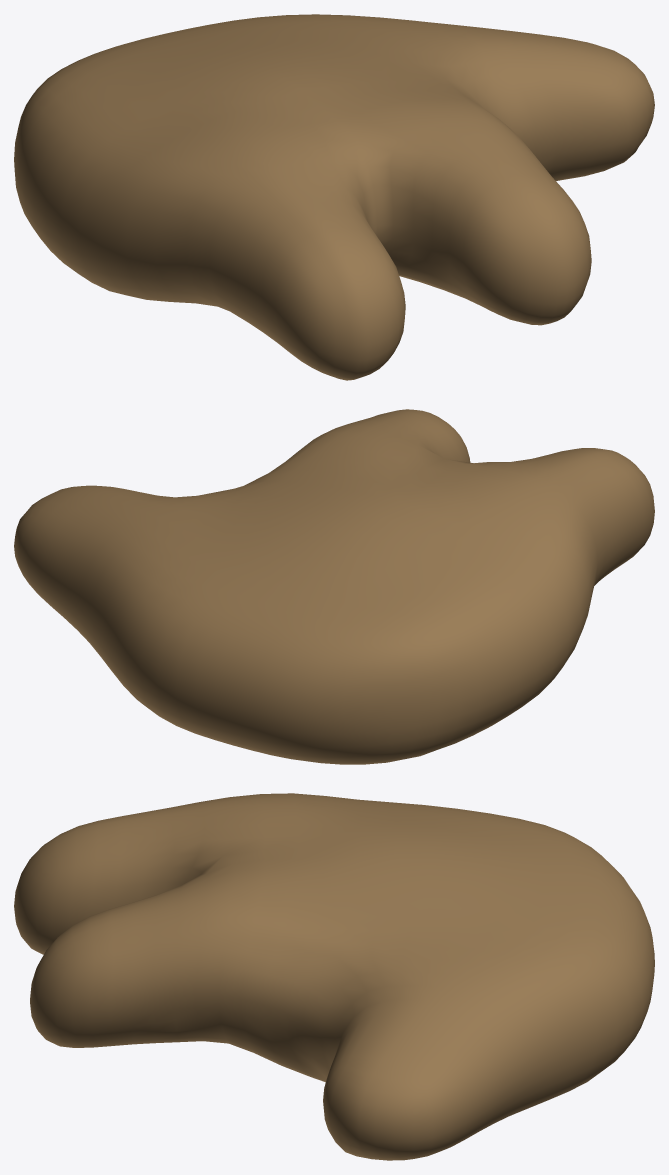
The model's file is right-hand.fbx.
The picture shows the model from 3 angles, top to bottom: view 1: azimuth 30°, elevation 25°; view 2: azimuth 150°, elevation 25°; view 3: azimuth 270°, elevation 25°; orthographic projection. The views are drawn at different scales.
Parts seen in each view (by area): view 1: Right Hand; view 2: Right Hand; view 3: Right Hand.
Boxes of the visible parts, left/top/right/bottom form: Right Hand: left=14, top=14, right=654, bottom=380; Right Hand: left=14, top=409, right=654, bottom=764; Right Hand: left=14, top=793, right=654, bottom=1160.
Size of the model in its own units: 15.99 by 5.25 by 15.84.
